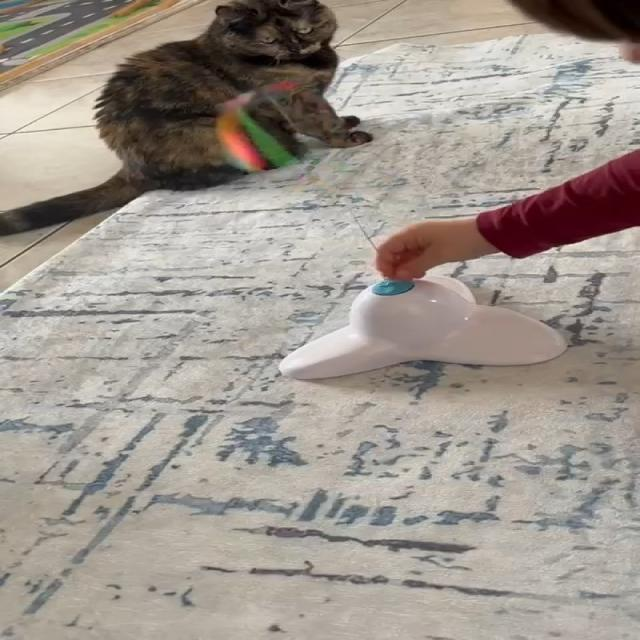authorized: (0, 0, 372, 237)
